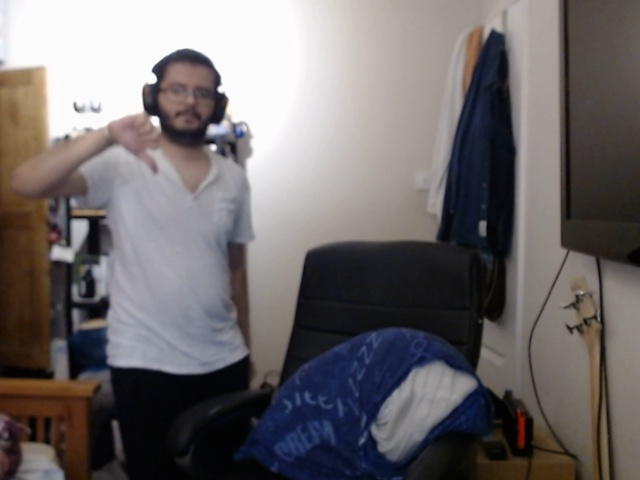Thumbs down: (108, 110, 164, 192)
